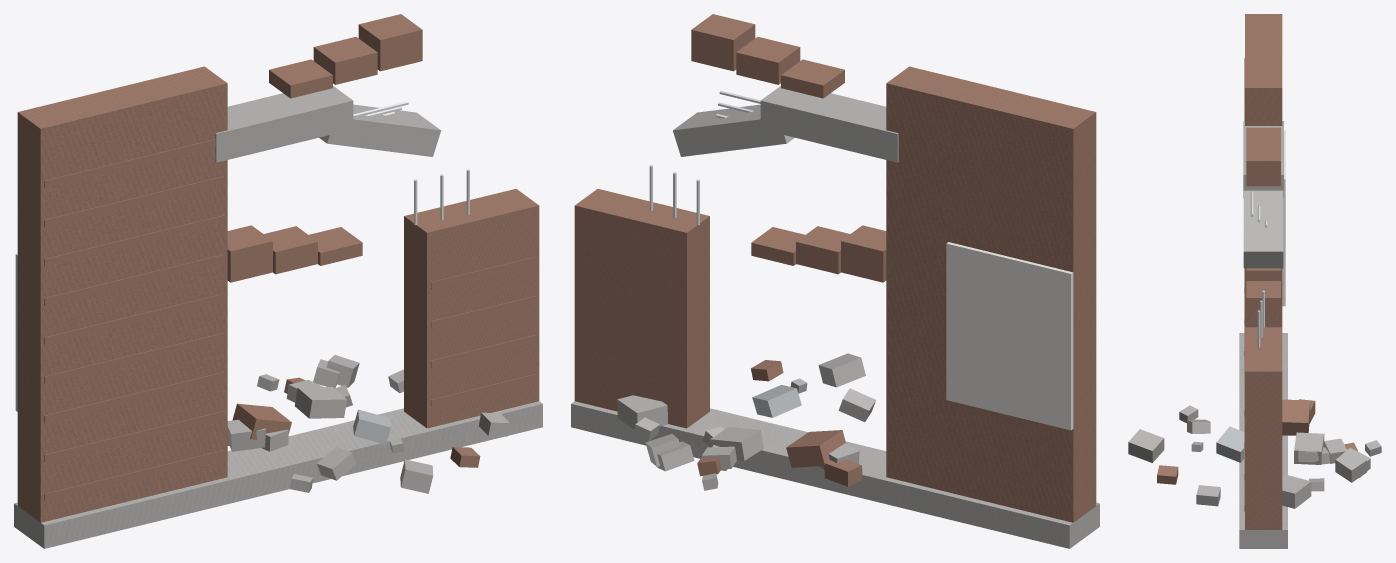
The model's file is demolition-and-site-clearance-demolition-and-site-clea-670c5ab7__35674.glb.
The picture shows the model from 3 angles, left to right: view 1: azimuth 30°, elevation 25°; view 2: azimuth 150°, elevation 25°; view 3: azimuth 270°, elevation 25°; orthographic projection. The views are drawn at different scales.
Visible parts, largest first — view 1: demolition-and-site-clearance-demolition-wall-section-breach (×4); view 2: demolition-and-site-clearance-demolition-wall-section-breach (×5); view 3: demolition-and-site-clearance-demolition-wall-section-breach (×5).
Boxes of the visible parts, bbox=[...] form: demolition-and-site-clearance-demolition-wall-section-breach (×4): bbox=[14, 14, 542, 548]; demolition-and-site-clearance-demolition-wall-section-breach (×5): bbox=[571, 14, 1099, 548]; demolition-and-site-clearance-demolition-wall-section-breach (×5): bbox=[1128, 14, 1381, 548].
Bounding box in the file's own units: 4 × 3.24 × 2.17.
5 materials, 2 textured.
